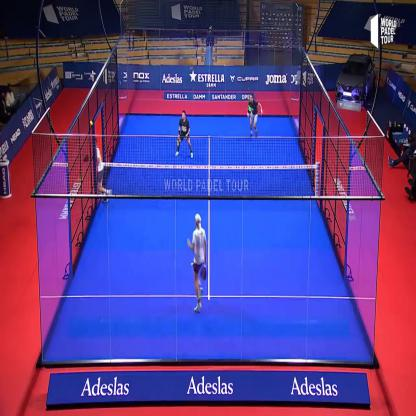ball: (88, 116, 96, 130)
